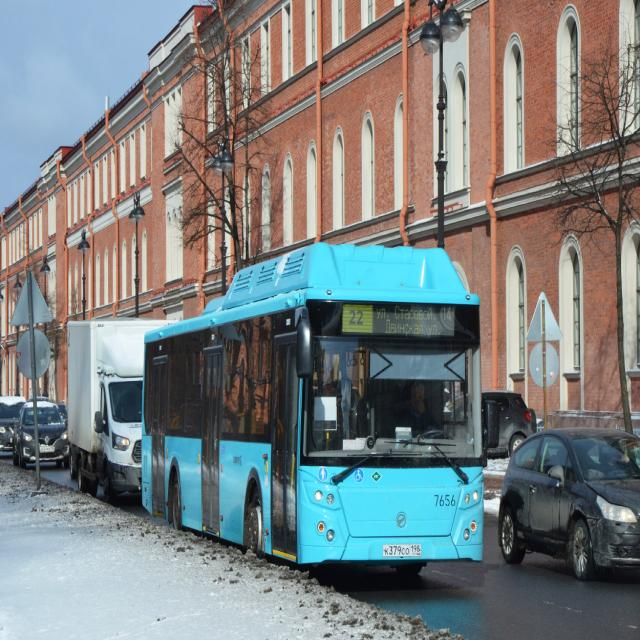number-of-bus: (345, 304, 370, 329)
